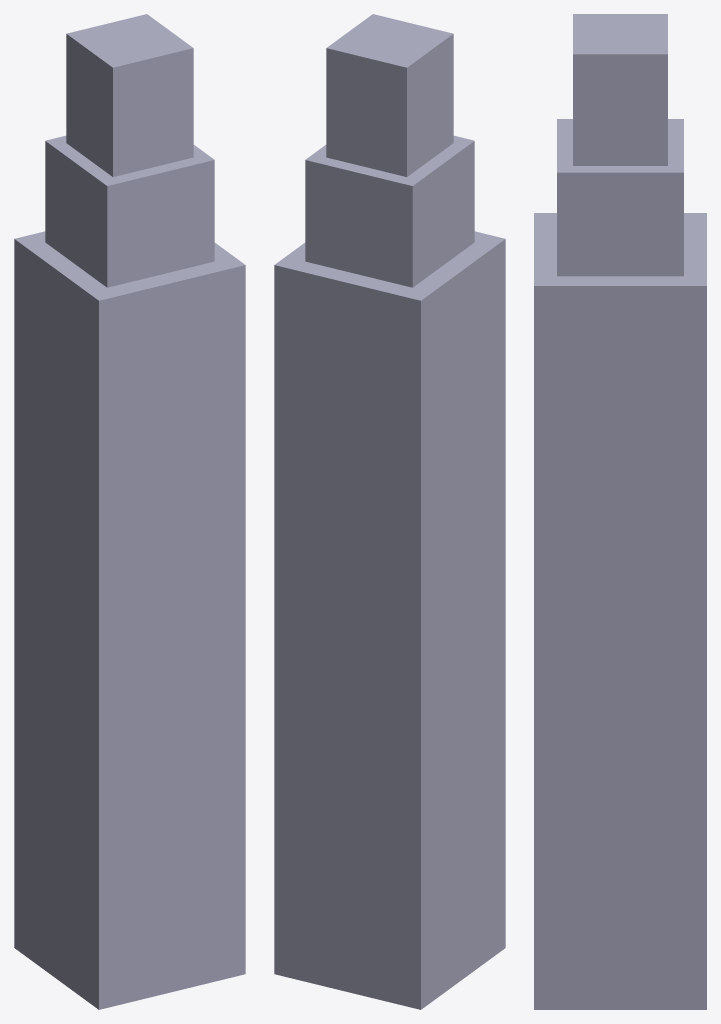
The model's file is Tall_stack_build.fbx.
The picture shows the model from 3 angles, left to right: view 1: azimuth 30°, elevation 25°; view 2: azimuth 150°, elevation 25°; view 3: azimuth 270°, elevation 25°; orthographic projection. The views are drawn at different scales.
Parts seen in each view (by area): view 1: stack_build13; view 2: stack_build13; view 3: stack_build13.
Boxes of the visible parts, x1,y1,x2,y2 form: stack_build13: (14, 14, 245, 1009); stack_build13: (274, 14, 505, 1009); stack_build13: (534, 14, 706, 1009).
Size of the model in its own units: 8 by 47.96 by 8.
